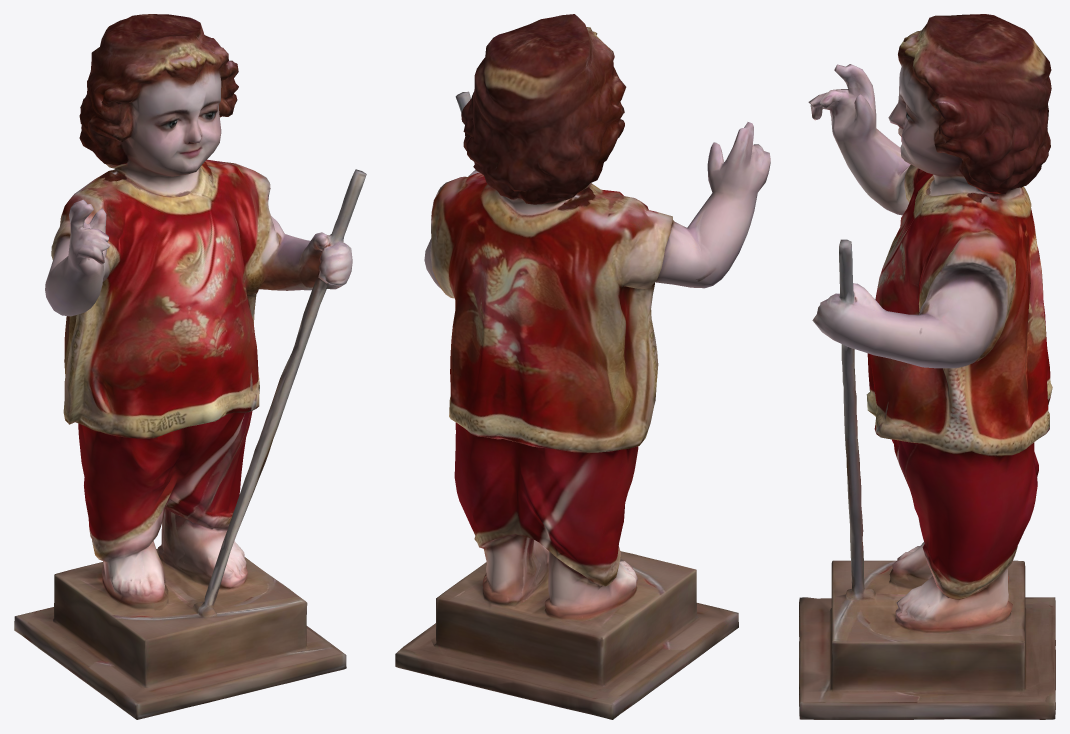
The model's file is santo_nino_gala.glb.
3 renders of one model, left to right at view 1: azimuth 30°, elevation 25°; view 2: azimuth 150°, elevation 25°; view 3: azimuth 270°, elevation 25°, orthographic. The views are drawn at different scales.
Parts seen in each view (by area): view 1: Object_4; view 2: Object_4; view 3: Object_4.
Part boxes in pixels (bbox=[...]): Object_4: bbox=[14, 14, 366, 719]; Object_4: bbox=[395, 14, 770, 719]; Object_4: bbox=[799, 14, 1055, 719].
Bounding box in the file's own units: 0.9616 × 1.91 × 0.69.
Materials: 1 (1 with a texture image).
